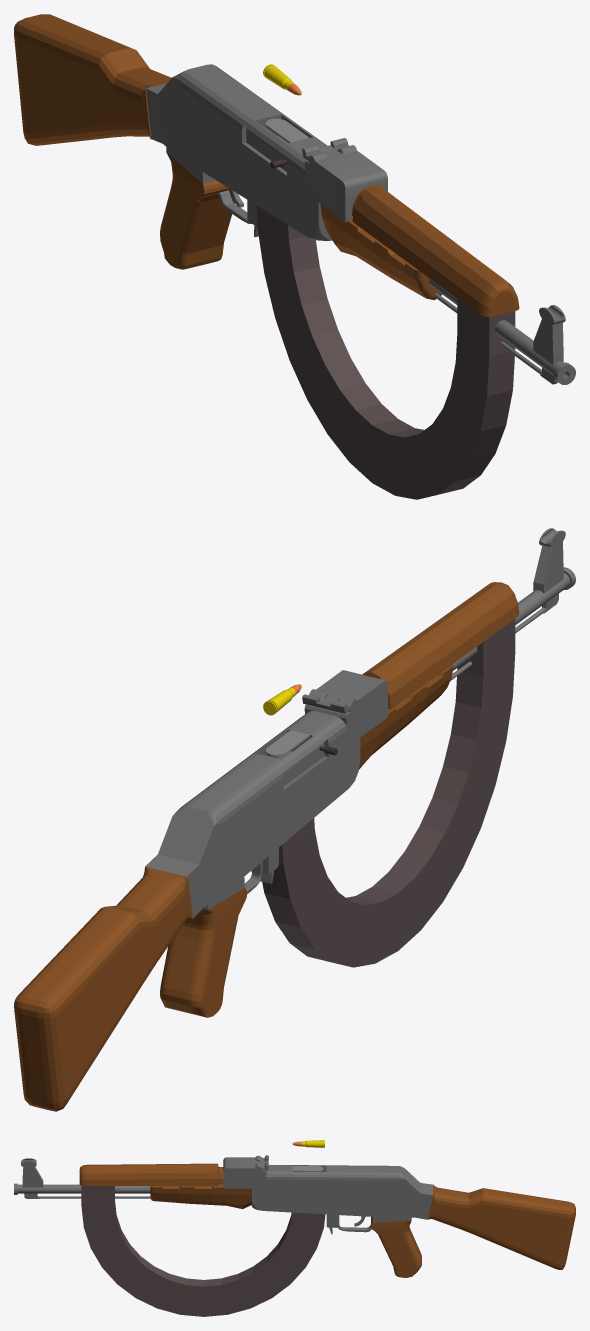
Rendered from Epic.fbx.
The picture shows the model from 3 angles, top to bottom: view 1: azimuth 30°, elevation 25°; view 2: azimuth 150°, elevation 25°; view 3: azimuth 270°, elevation 25°; orthographic projection. The views are drawn at different scales.
Parts seen in each view (by area): view 1: Epic, Body.004, Stock.003, Top Front Grip.003, Grip.003, Rear Sight Thingy.003, Bottom Handguard thing.003, Bottom Barrel.003, Front Sight.003; view 2: Epic, Stock.003, Body.004, Top Front Grip.003, Grip.003, Rear Sight Thingy.003, Bottom Handguard thing.003, Front Sight.003, Bottom Barrel.003; view 3: Epic, Body.004, Stock.003, Top Front Grip.003, Bottom Handguard thing.003, Grip.003, Rear Sight Thingy.003, Bottom Barrel.003, Front Sight.003.
Boxes of the visible parts, x1,y1,x2,y2 form: Epic: (256, 205, 515, 499); Body.004: (146, 64, 331, 240); Stock.003: (14, 14, 171, 145); Top Front Grip.003: (352, 185, 519, 316); Grip.003: (160, 152, 235, 269); Rear Sight Thingy.003: (302, 138, 387, 222); Bottom Handguard thing.003: (320, 204, 441, 300); Bottom Barrel.003: (429, 278, 575, 384); Front Sight.003: (533, 319, 563, 384); Epic: (262, 595, 515, 967); Stock.003: (14, 866, 192, 1111); Body.004: (145, 711, 360, 918); Top Front Grip.003: (362, 582, 519, 708); Grip.003: (160, 888, 246, 1017); Rear Sight Thingy.003: (302, 670, 387, 736); Bottom Handguard thing.003: (359, 664, 453, 769); Front Sight.003: (533, 542, 563, 613); Bottom Barrel.003: (453, 567, 575, 670); Epic: (81, 1175, 325, 1316); Body.004: (251, 1165, 432, 1234); Stock.003: (427, 1184, 575, 1269); Top Front Grip.003: (79, 1163, 223, 1185); Bottom Handguard thing.003: (150, 1184, 251, 1209); Grip.003: (371, 1217, 421, 1277); Rear Sight Thingy.003: (223, 1155, 268, 1188); Bottom Barrel.003: (14, 1183, 150, 1194); Front Sight.003: (22, 1167, 43, 1198).
Bounding box in the file's own units: 26.34 × 156 × 459.
